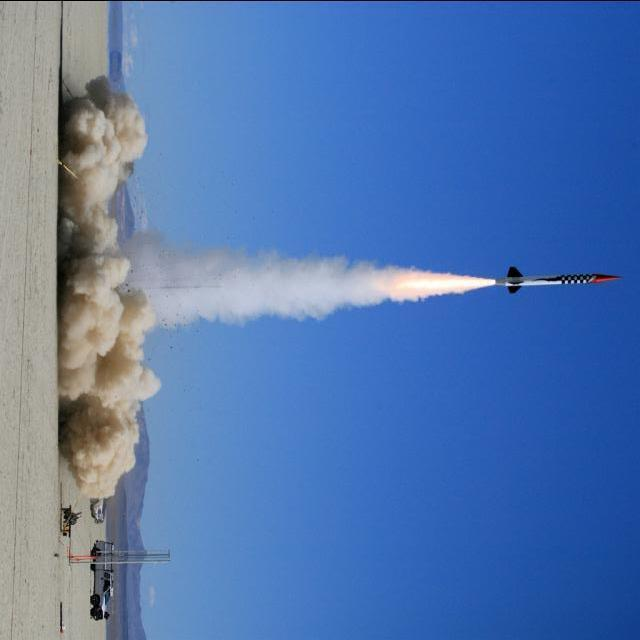missile: (502, 264, 622, 304)
